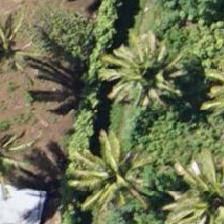coconut_tree: (103, 24, 193, 114), (0, 3, 47, 93), (165, 152, 223, 223)
